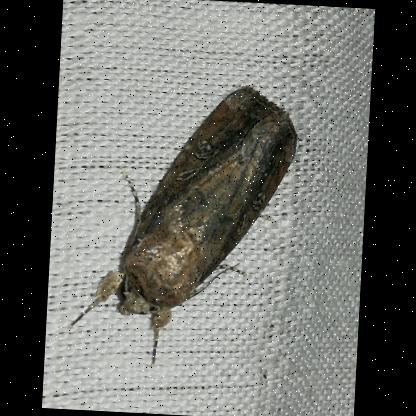Fall Armyworm Moth: (65, 74, 303, 376)
